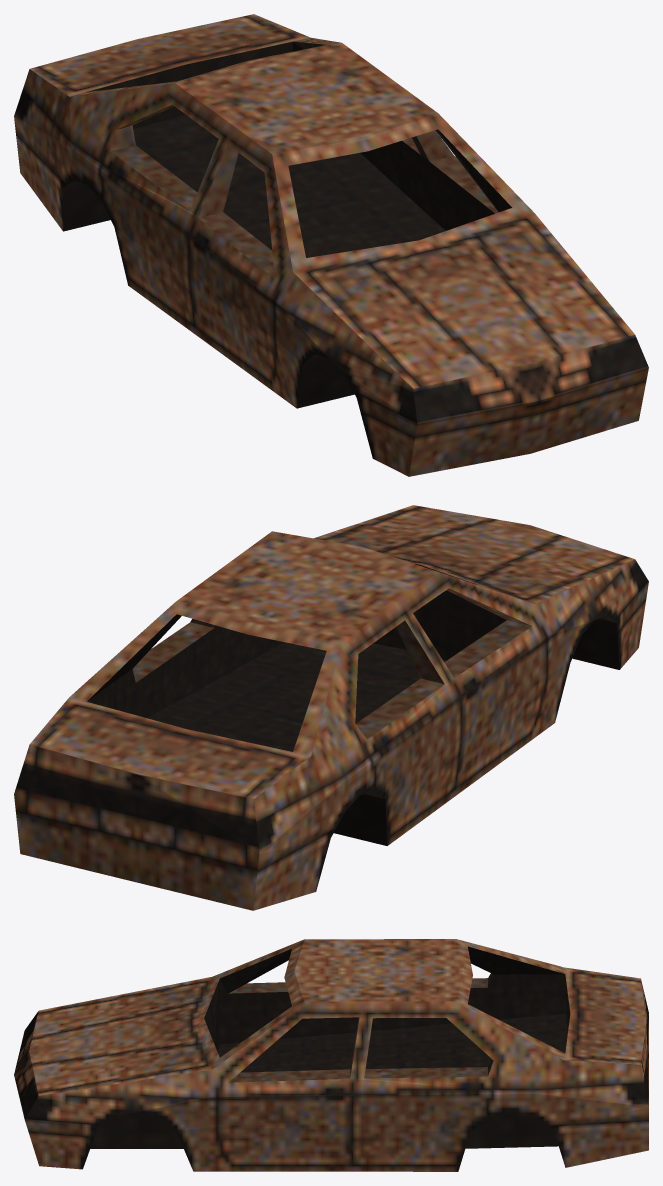
Rendered from Car6.glb.
The picture shows the model from 3 angles, top to bottom: view 1: azimuth 30°, elevation 25°; view 2: azimuth 150°, elevation 25°; view 3: azimuth 270°, elevation 25°; orthographic projection. The views are drawn at different scales.
Size of the model in its own units: 2.48 by 1.67 by 6.36.
1 material, 1 textured.
